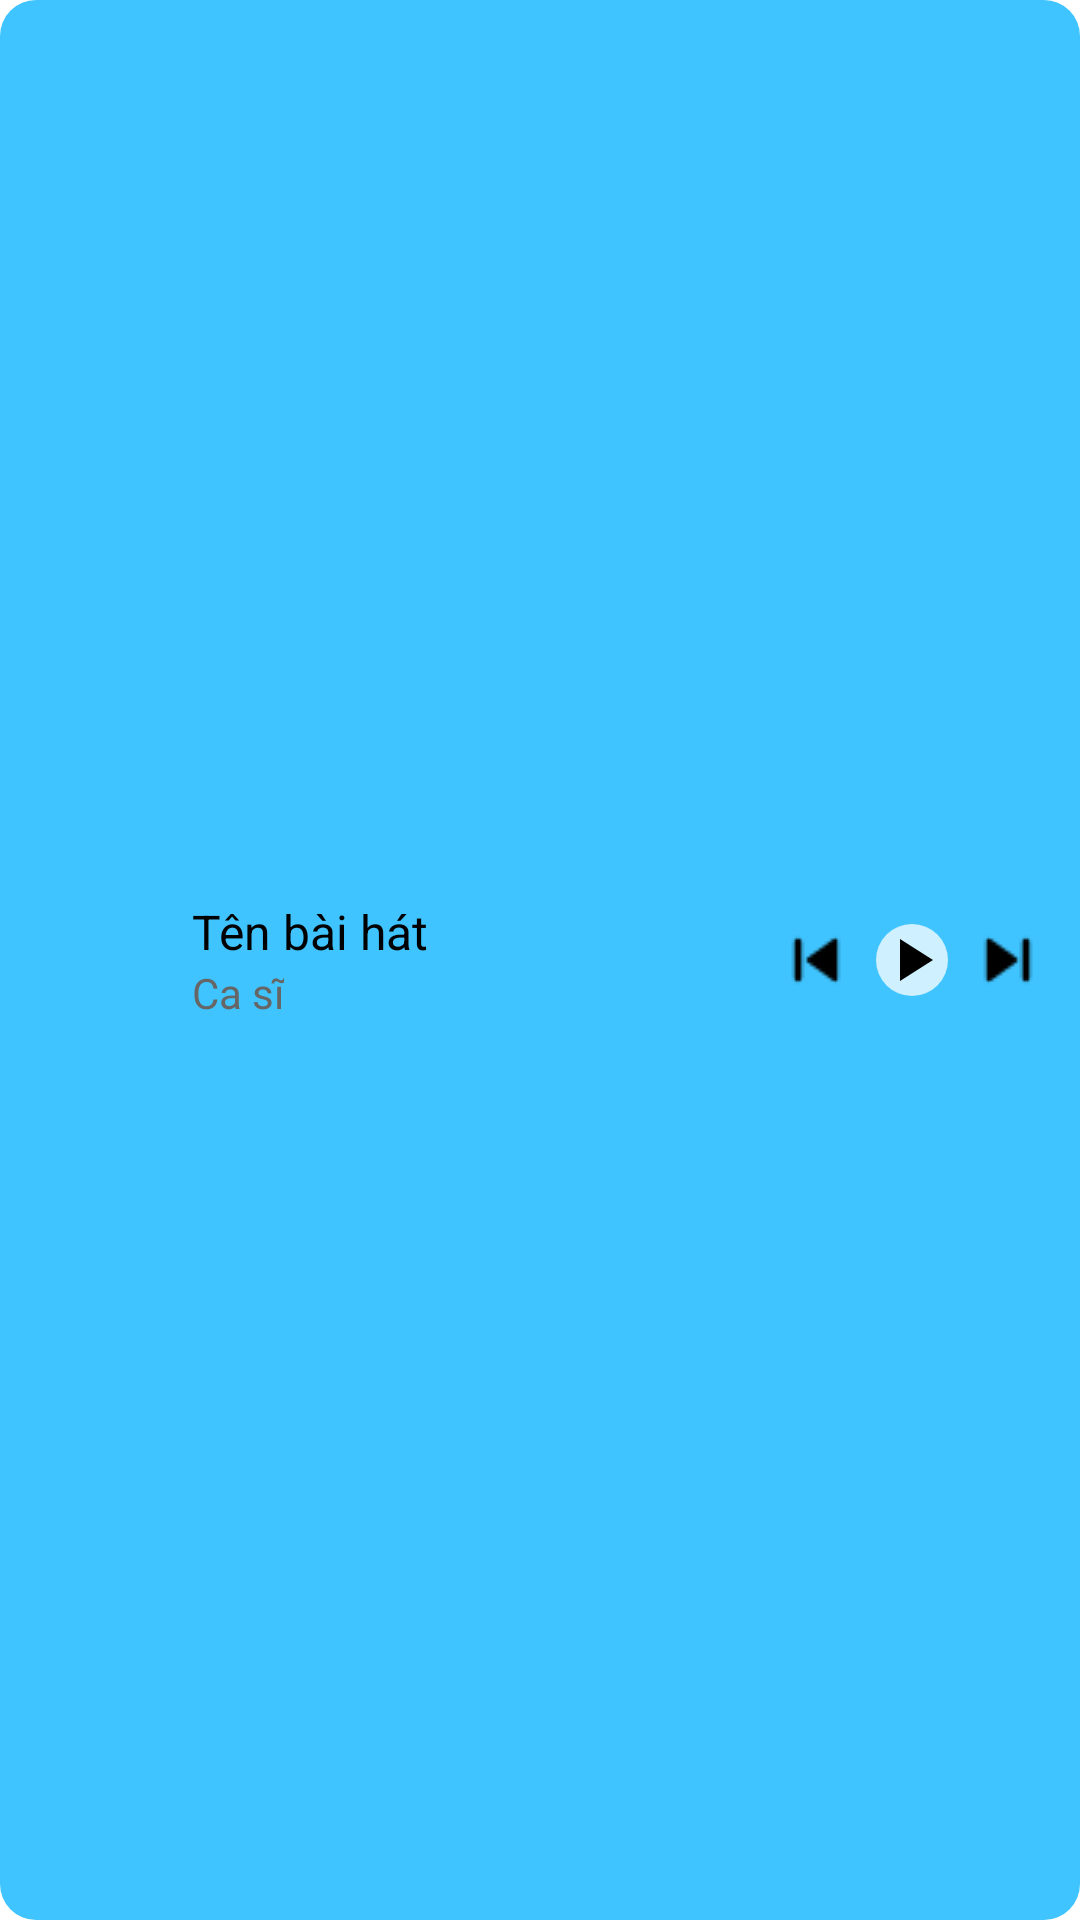

Where to tap for icons on this 1080×1920 app screen, as point (x, y):
Next: point (1008, 960)
Play/Pause: point (912, 960)
Previous: point (816, 960)
